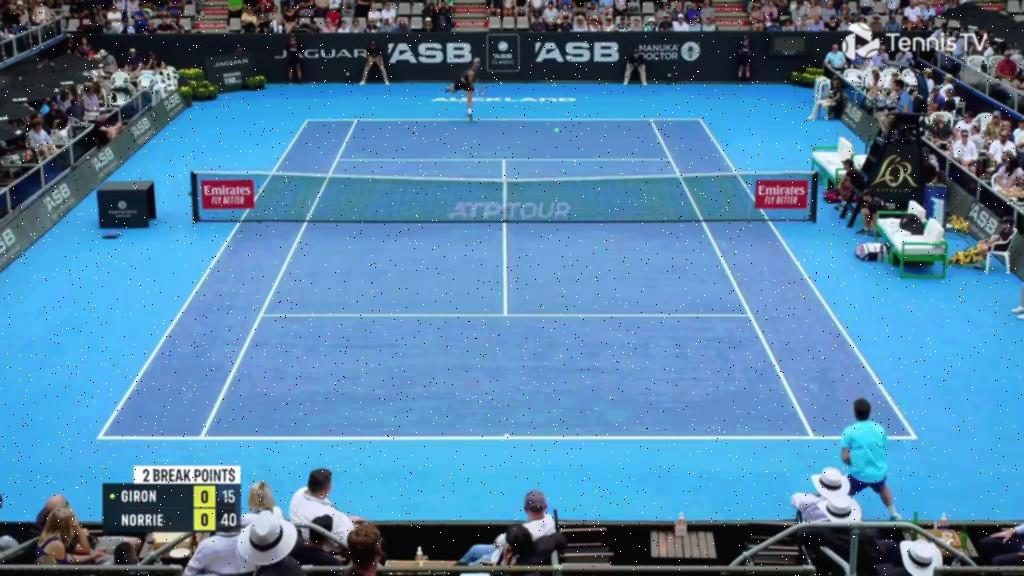tennis-court: (97, 118, 918, 439)
